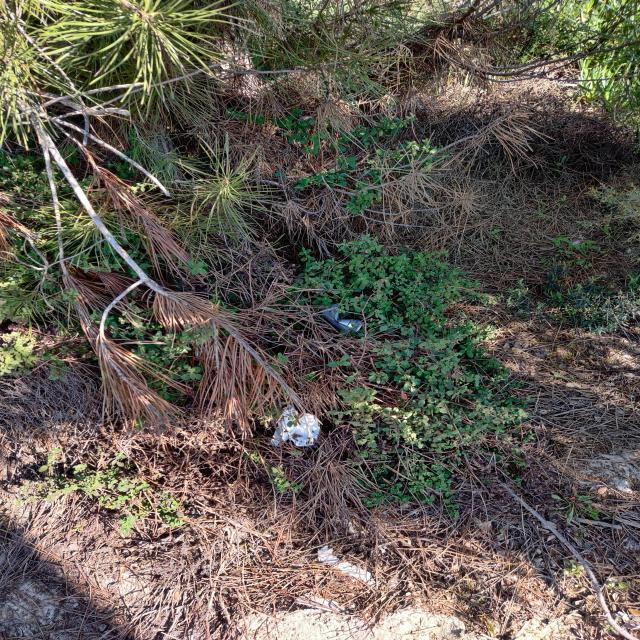litter: (267, 409, 316, 444), (327, 307, 368, 334)
